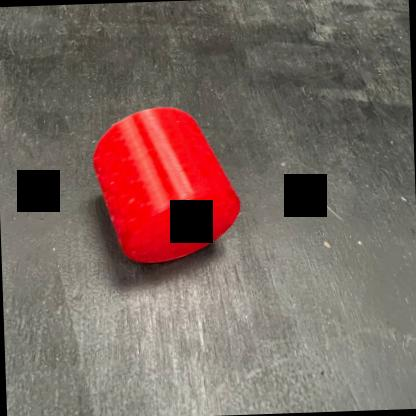red cylinder: (88, 101, 246, 272)
